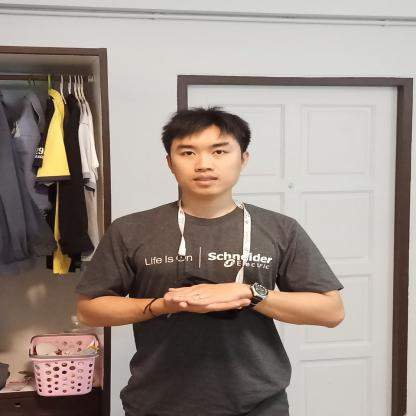Love: (107, 255, 298, 328)
